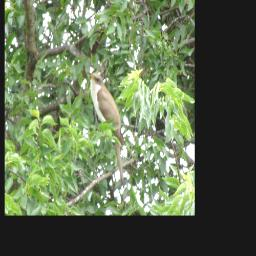Cuckoo: (84, 69, 127, 191)
